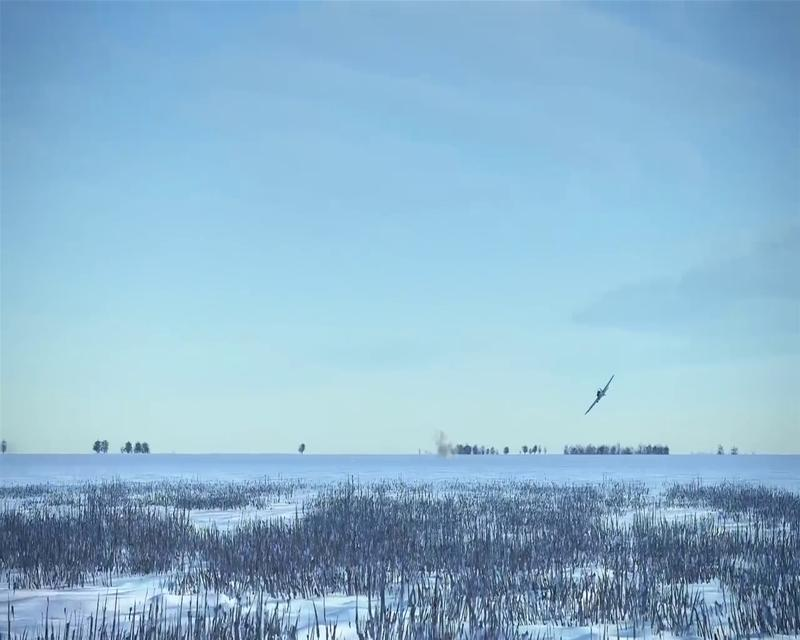UAV: (583, 373, 614, 414)
